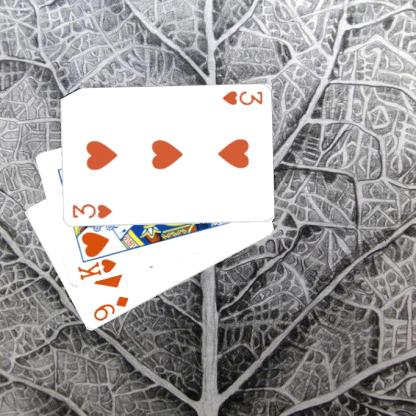3H: (69, 201, 113, 220), (219, 88, 263, 107)
9D: (90, 294, 130, 324)
KH: (74, 256, 118, 282)
